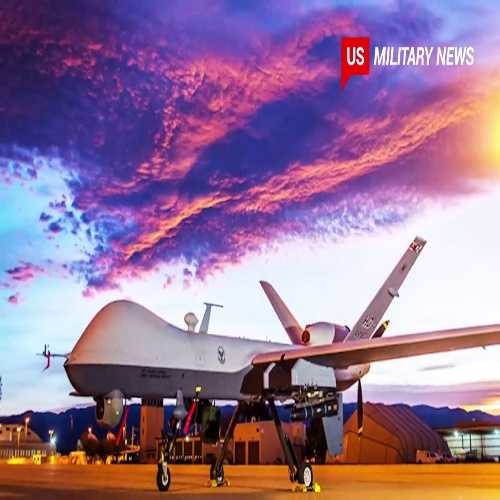uav38: (62, 236, 500, 489)
